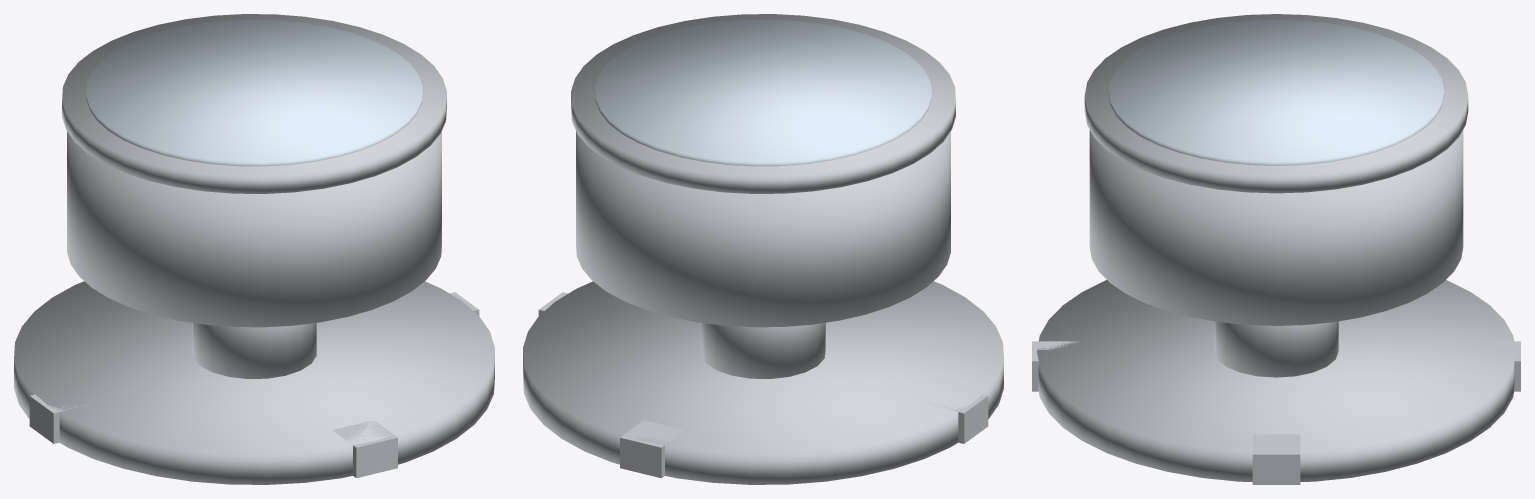
Rendered from light-underwater.glb.
3 views of the same model, side by side, from view 1: azimuth 30°, elevation 25°; view 2: azimuth 150°, elevation 25°; view 3: azimuth 270°, elevation 25° (orthographic).
Visible parts, largest first — view 1: Прожектор подводный; view 2: Прожектор подводный; view 3: Прожектор подводный.
Part boxes in pixels (x1,y1,x2,y2): Прожектор подводный: (14, 14, 494, 484); Прожектор подводный: (523, 14, 1003, 484); Прожектор подводный: (1032, 14, 1520, 484).
Size of the model in its own units: 0.204 by 0.134 by 0.204.
